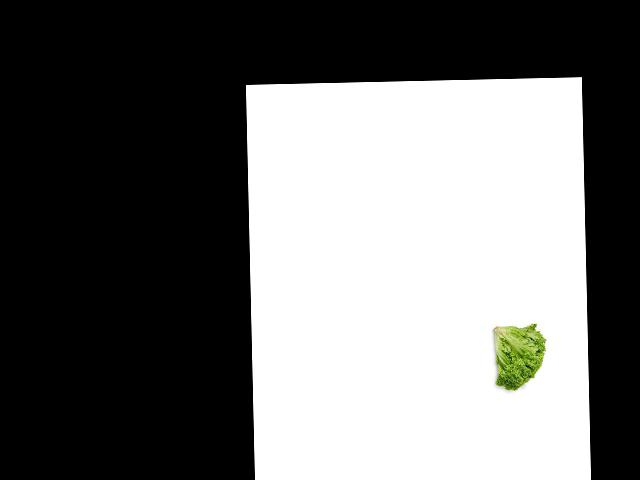lettuce: (487, 320, 550, 394)
